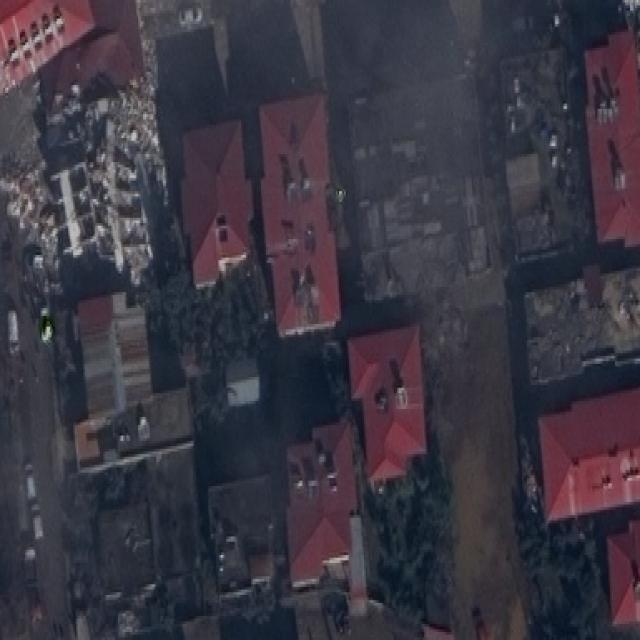Rubble: (82, 92, 173, 266), (12, 162, 64, 243)
